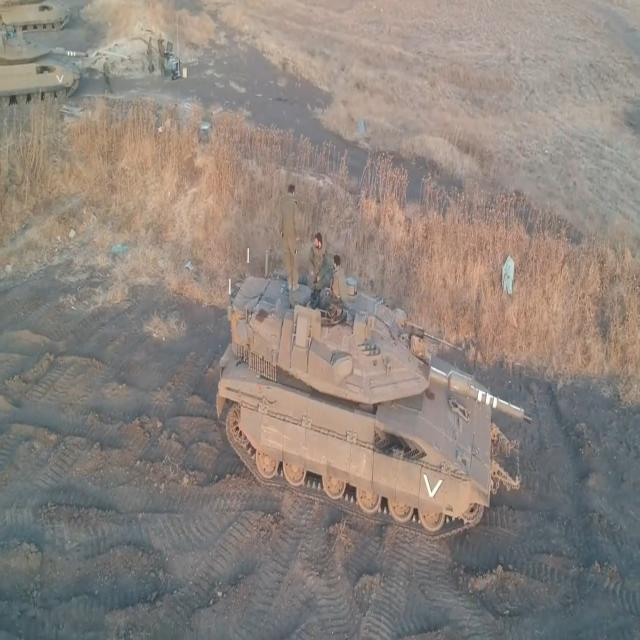tank: (212, 279, 538, 546)
